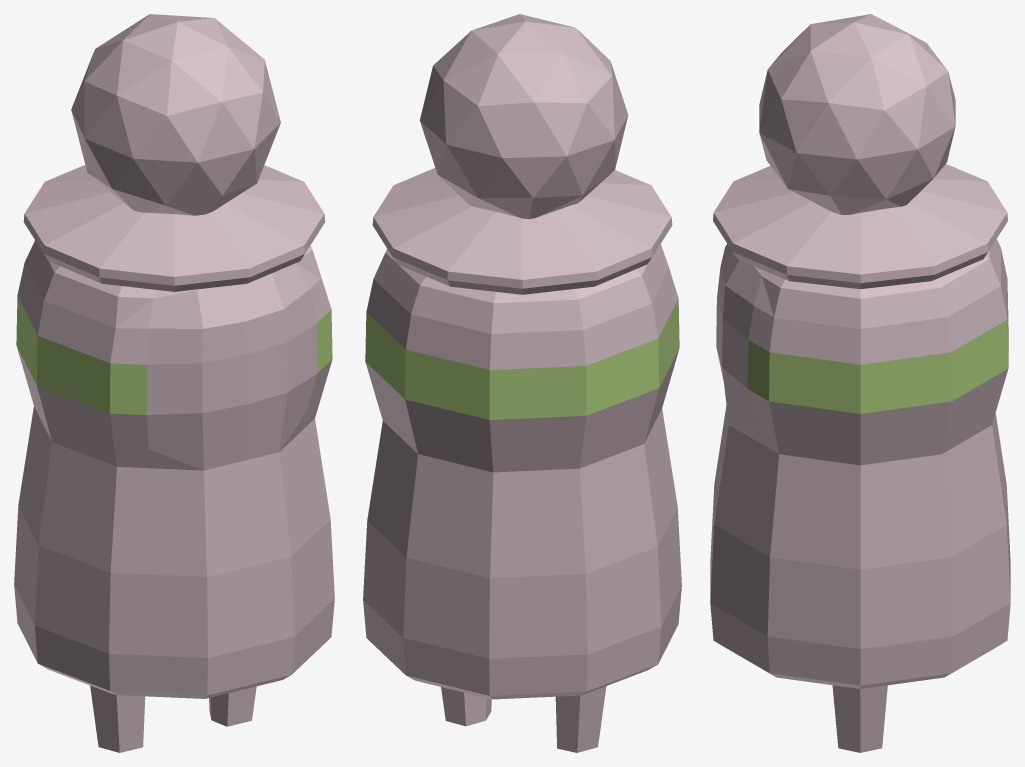
The model's file is chesscharacters_quicktransfer_pawn.fbx.
The picture shows the model from 3 angles, left to right: view 1: azimuth 30°, elevation 25°; view 2: azimuth 150°, elevation 25°; view 3: azimuth 270°, elevation 25°; orthographic projection. The views are drawn at different scales.
Visible parts, largest first — view 1: pawn ball; view 2: pawn ball; view 3: pawn ball.
Part boxes in pixels (x1,y1,x2,y2): pawn ball: (14,14,334,752); pawn ball: (363,14,681,752); pawn ball: (710,14,1010,752).
Bounding box in the file's own units: 265 × 643 × 252.
